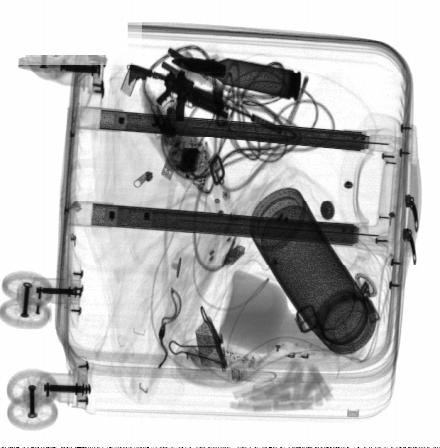Bullet: (171, 57, 301, 102)
Gun: (128, 62, 283, 132)
